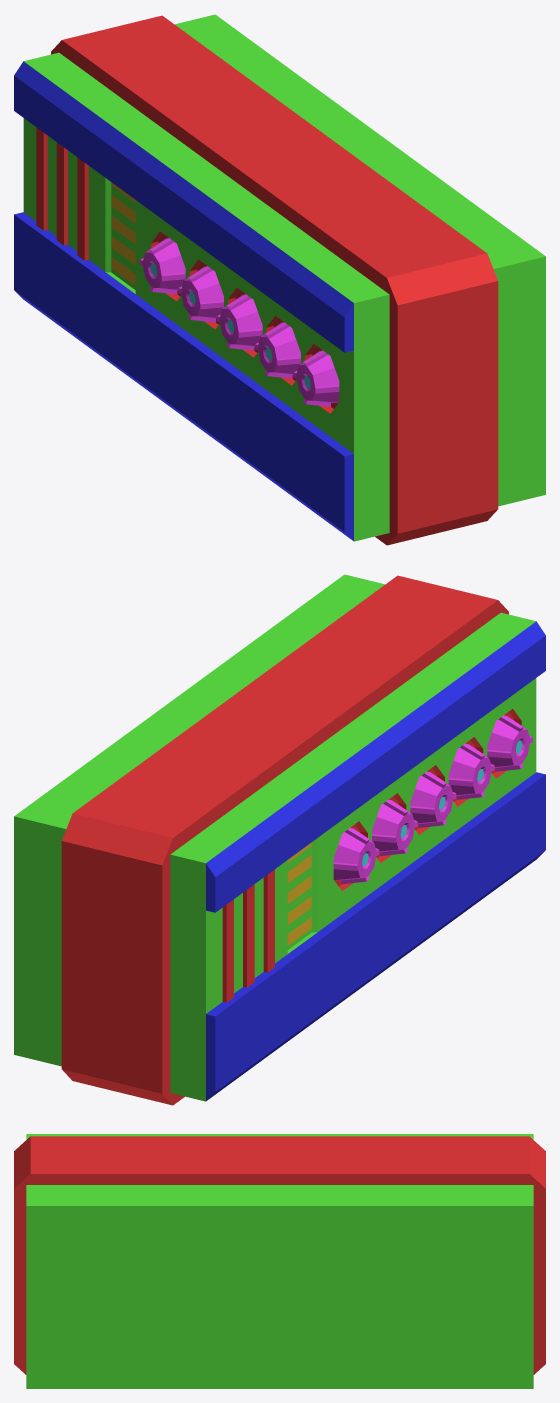
File: Circuit_Box_03.fbx
3 renders of one model, top to bottom at view 1: azimuth 30°, elevation 25°; view 2: azimuth 150°, elevation 25°; view 3: azimuth 270°, elevation 25°, orthographic. The views are drawn at different scales.
Parts seen in each view (by area): view 1: Circuit_Box_03; view 2: Circuit_Box_03; view 3: Circuit_Box_03.
Part boxes in pixels (<box>): Circuit_Box_03: <box>14,14,545,545</box>; Circuit_Box_03: <box>14,574,545,1105</box>; Circuit_Box_03: <box>14,1134,545,1388</box>.
Bounding box in the file's own units: 26.63 × 32.51 × 76.35.
